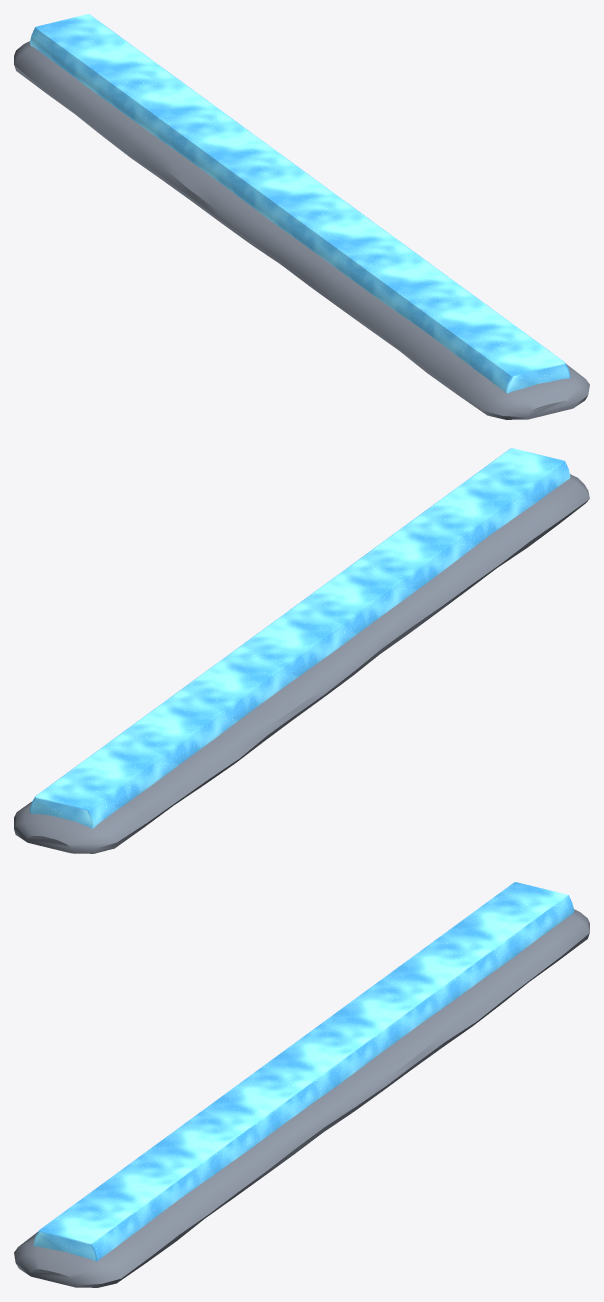
File: SM_IceLedge.glb
3 views of the same model, one above another, from view 1: azimuth 30°, elevation 25°; view 2: azimuth 150°, elevation 25°; view 3: azimuth 330°, elevation 25° (orthographic).
Visible parts, largest first — view 1: SM_IceLedge; view 2: SM_IceLedge; view 3: SM_IceLedge.
Boxes of the visible parts, box(x1,y1,x2,y2) form: SM_IceLedge: box(14, 14, 589, 419); SM_IceLedge: box(14, 448, 589, 853); SM_IceLedge: box(14, 882, 589, 1287).
Size of the model in its own units: 1.63 by 0.5 by 12.6.
2 materials, 1 textured.
